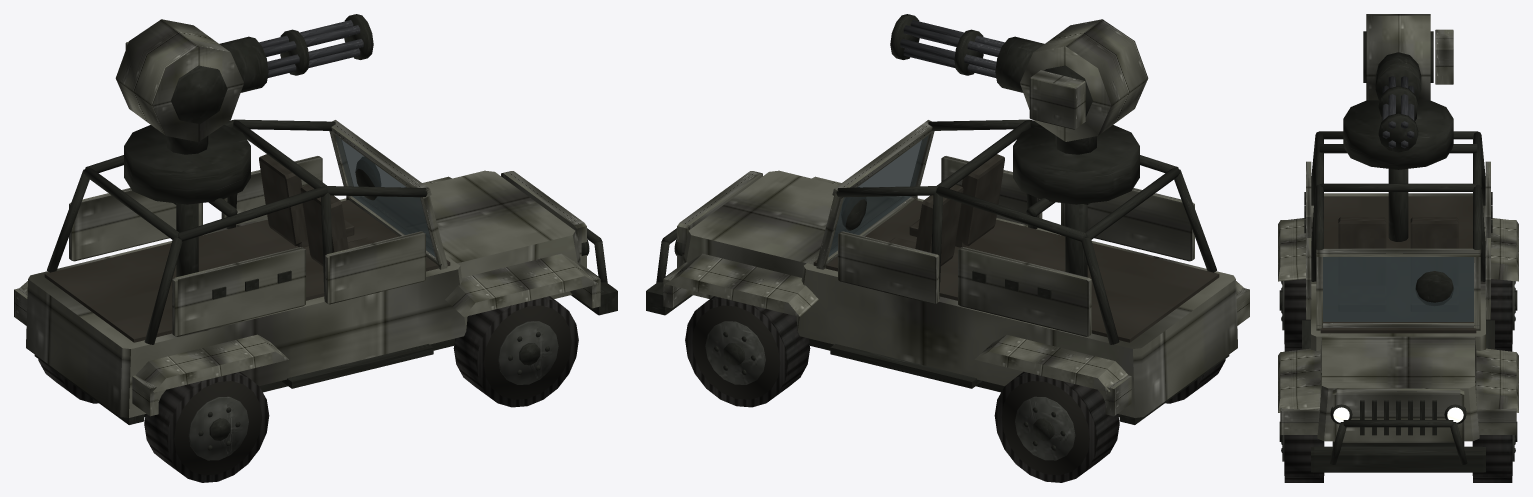
The model's file is unit_warthog_1.glb.
3 views of the same model, side by side, from view 1: azimuth 30°, elevation 25°; view 2: azimuth 150°, elevation 25°; view 3: azimuth 270°, elevation 25° (orthographic). The views are drawn at different scales.
Visible parts, largest first — view 1: unit_warthog_1; view 2: unit_warthog_1; view 3: unit_warthog_1.
Part boxes in pixels (x1=…): unit_warthog_1: x1=14, y1=14, x2=617, y2=482; unit_warthog_1: x1=646, y1=14, x2=1249, y2=482; unit_warthog_1: x1=1278, y1=14, x2=1518, y2=482.
Size of the model in its own units: 4.6 by 3.48 by 2.22.
Materials: 9 (6 with a texture image).
